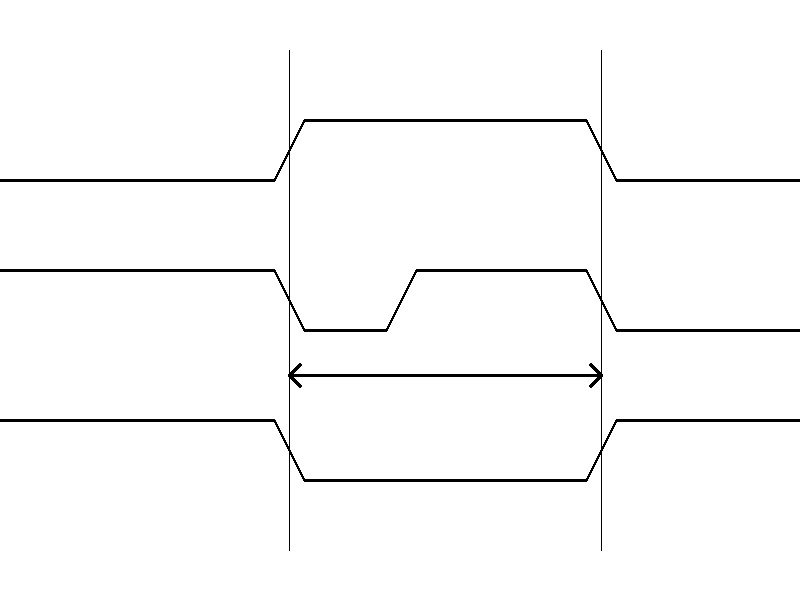double_arrow: (289, 360, 601, 390)
